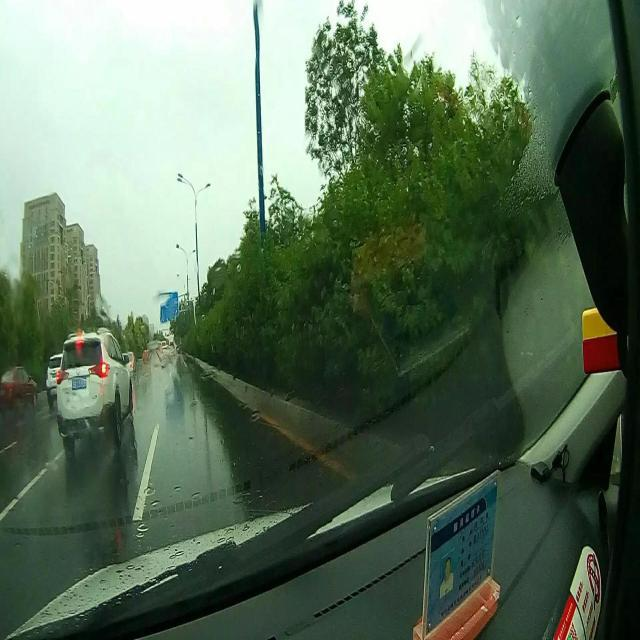car: (52, 328, 132, 441), (0, 366, 38, 412), (44, 350, 62, 396)
